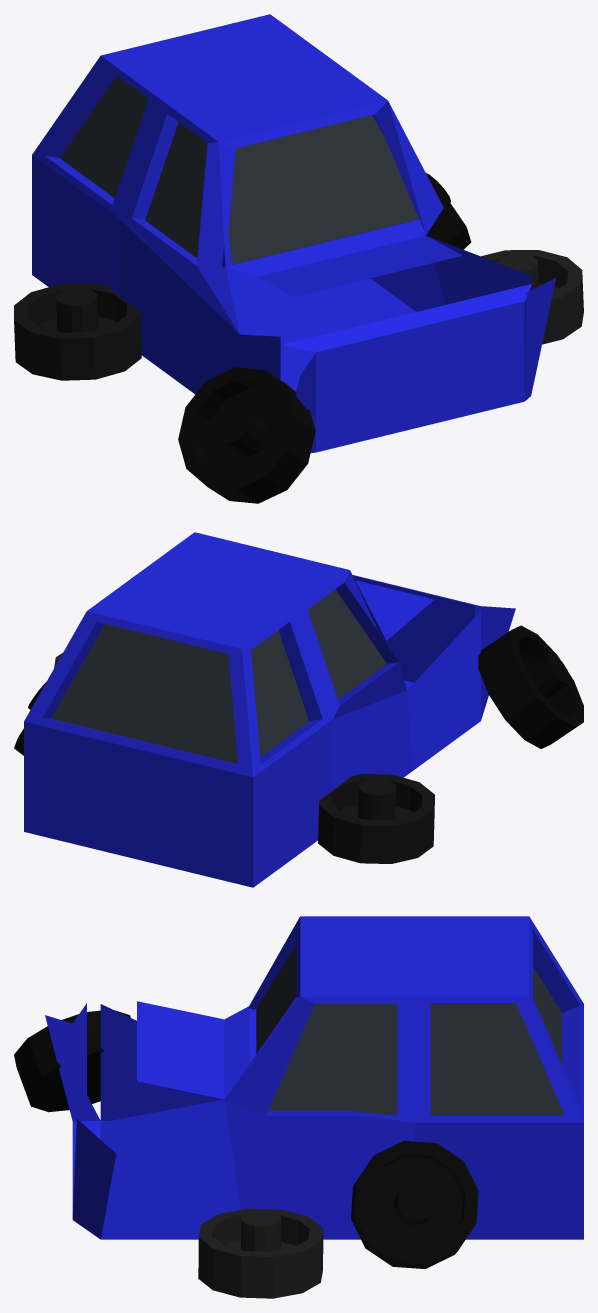
File: broken down car.fbx
3 views of the same model, one above another, from view 1: azimuth 30°, elevation 25°; view 2: azimuth 150°, elevation 25°; view 3: azimuth 270°, elevation 25° (orthographic). The views are drawn at different scales.
Parts seen in each view (by area): view 1: Cube, Cylinder.002, Cylinder.003, Cylinder.001, Cylinder; view 2: Cube, Cylinder.003, Cylinder.002; view 3: Cube, Cylinder, Cylinder.001, Cylinder.002.
Boxes of the visible parts, x1,y1,x2,y2 form: Cube: (32, 14, 555, 452); Cylinder.002: (178, 367, 315, 503); Cylinder.003: (14, 283, 141, 380); Cylinder.001: (481, 250, 583, 344); Cylinder: (426, 173, 471, 249); Cube: (24, 532, 515, 887); Cylinder.003: (318, 774, 434, 863); Cylinder.002: (478, 625, 583, 748); Cube: (45, 916, 583, 1239); Cylinder: (351, 1140, 478, 1268); Cylinder.001: (198, 1208, 323, 1298); Cylinder.002: (14, 1010, 130, 1112).
Bounding box in the file's own units: 196 × 98.26 × 209.
